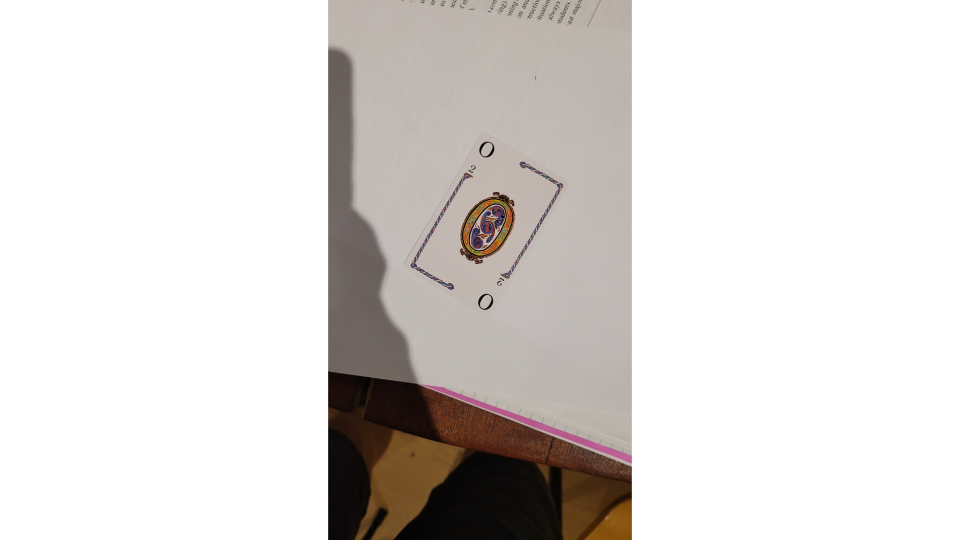O: (401, 128, 572, 319)
